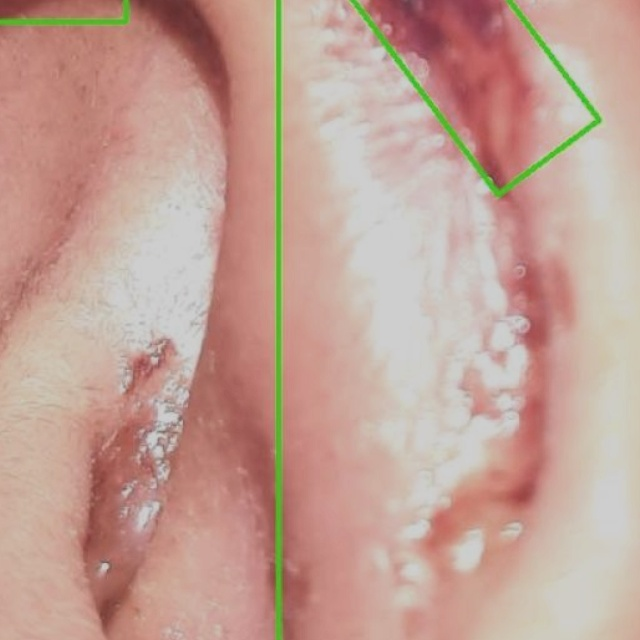Eczema: (0, 0, 280, 639), (354, 0, 599, 193)
